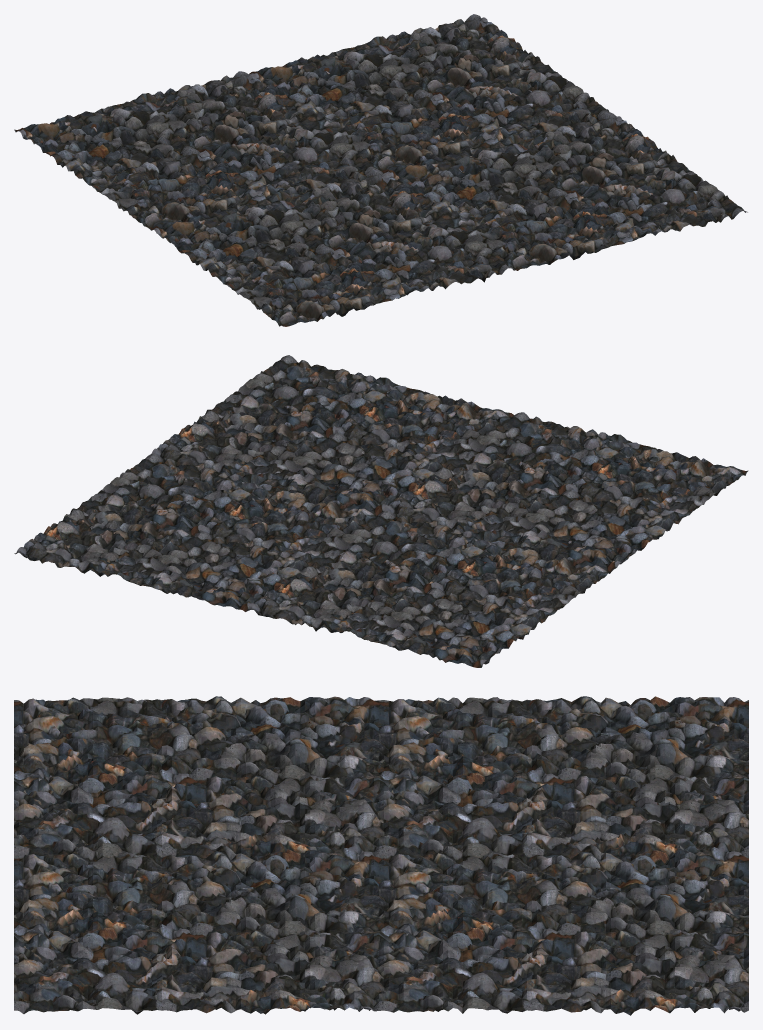
Rendered from tank-2-150.fbx.
The picture shows the model from 3 angles, top to bottom: view 1: azimuth 30°, elevation 25°; view 2: azimuth 150°, elevation 25°; view 3: azimuth 270°, elevation 25°; orthographic projection. The views are drawn at different scales.
Visible parts, largest first — view 1: Grid; view 2: Grid; view 3: Grid.
Part boxes in pixels (bbox=[...]): Grid: bbox=[14, 14, 747, 326]; Grid: bbox=[14, 355, 748, 667]; Grid: bbox=[14, 696, 748, 1015].
Bounding box in the file's own units: 1600 × 54.02 × 1600.
